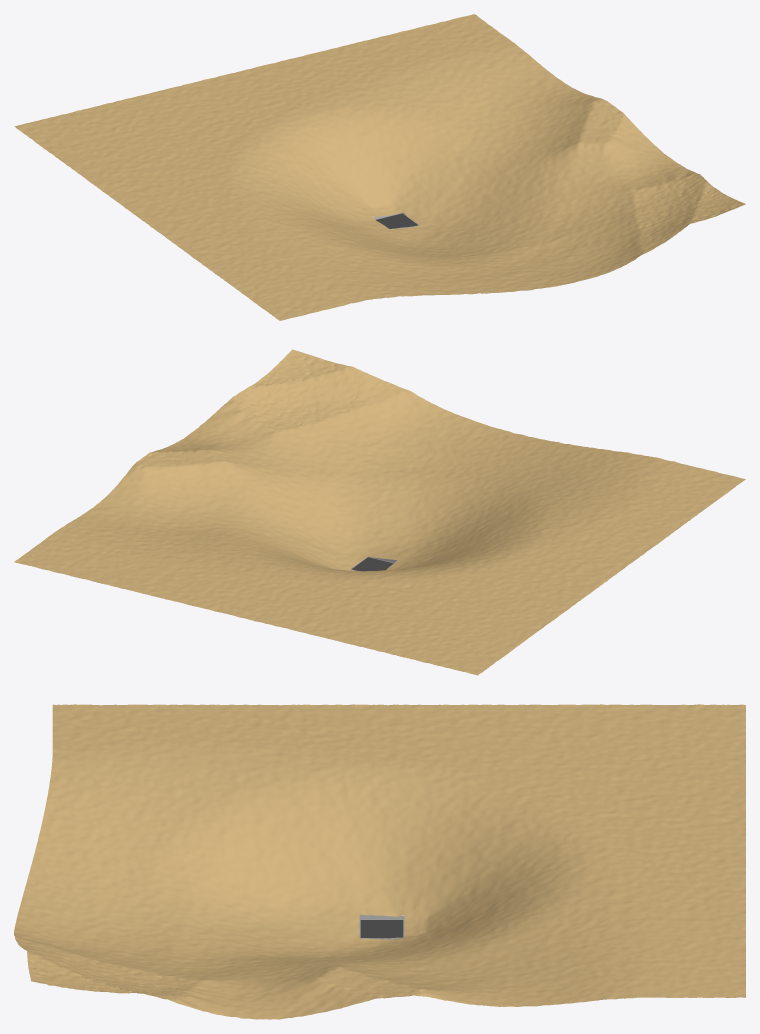
The model's file is scrap jam.fbx.
The picture shows the model from 3 angles, top to bottom: view 1: azimuth 30°, elevation 25°; view 2: azimuth 150°, elevation 25°; view 3: azimuth 270°, elevation 25°; orthographic projection. The views are drawn at different scales.
Parts seen in each view (by area): view 1: Map; view 2: Map; view 3: Map, Cube.005.
Boxes of the visible parts, x1,y1,x2,y2 form: Map: (14, 14, 745, 320); Map: (14, 349, 745, 675); Map: (14, 704, 745, 1019); Cube.005: (360, 920, 403, 937).
Size of the model in its own units: 44203 by 9411 by 45592.
